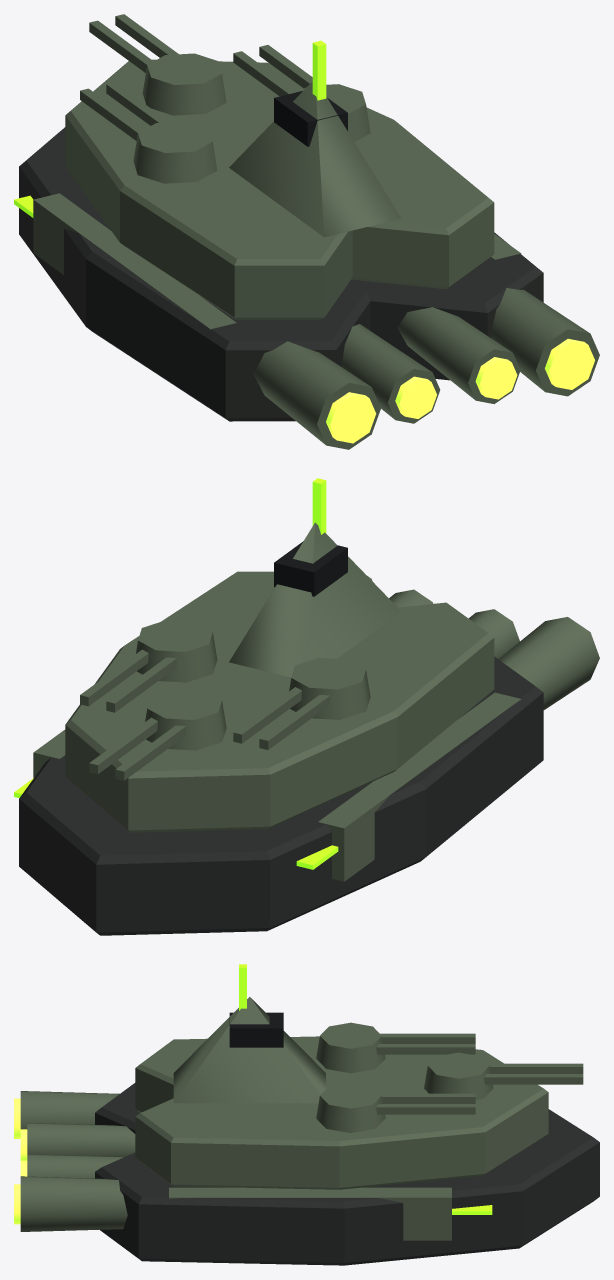
Rendered from Battleship.glb.
3 views of the same model, one above another, from view 1: azimuth 30°, elevation 25°; view 2: azimuth 150°, elevation 25°; view 3: azimuth 270°, elevation 25° (orthographic). The views are drawn at different scales.
Visible parts, largest first — view 1: battleship_spine, battleship_hull, battleship, battleship_tower, battleship_engine_o_nacelle (×2), battleship_engine_i_nacelle (×2), battleship_armour, battleship_engine_o_bell (×2), battleship_engine_i_bell (×2), battleship_command, battleship_mast; view 2: battleship_spine, battleship_hull, battleship, battleship_tower, battleship_armour (×2), battleship_engine_o_nacelle, battleship_command, battleship_engine_i_nacelle, battleship_mast; view 3: battleship_spine, battleship_hull, battleship, battleship_tower, battleship_engine_o_nacelle (×2), battleship_engine_i_nacelle (×2), battleship_armour, battleship_command.
Boxes of the visible parts, box(x1,y1,x2,y2) form: battleship_spine: box(65, 59, 494, 320); battleship_hull: box(19, 127, 543, 421); battleship: box(80, 14, 370, 183); battleship_tower: box(229, 81, 401, 237); battleship_engine_o_nacelle (×2): box(253, 288, 599, 449); battleship_engine_i_nacelle (×2): box(341, 307, 520, 423); battleship_armour: box(33, 193, 236, 329); battleship_engine_o_bell (×2): box(326, 338, 594, 443); battleship_engine_i_bell (×2): box(395, 357, 517, 418); battleship_command: box(274, 91, 347, 146); battleship_mast: box(312, 40, 326, 100); battleship_spine: box(65, 571, 494, 832); battleship_hull: box(19, 656, 543, 935); battleship: box(80, 620, 370, 780); battleship_tower: box(229, 522, 401, 677); battleship_armour (×2): box(33, 692, 521, 881); battleship_engine_o_nacelle: box(498, 617, 599, 709); battleship_command: box(274, 541, 347, 596); battleship_engine_i_nacelle: box(468, 609, 519, 658); battleship_mast: box(312, 478, 326, 534); battleship_spine: box(135, 1036, 548, 1189); battleship_hull: box(95, 1083, 599, 1265); battleship: box(316, 1022, 583, 1132); battleship_tower: box(173, 997, 325, 1103); battleship_engine_o_nacelle (×2): box(20, 1091, 127, 1231); battleship_engine_i_nacelle (×2): box(27, 1123, 135, 1178); battleship_armour: box(169, 1187, 451, 1240); battleship_command: box(229, 1012, 283, 1047).
Size of the model in its own units: 43.28 by 35.8 by 80.75.
